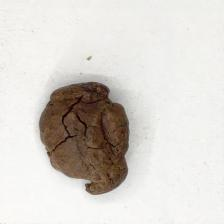NG: (41, 81, 130, 194)
